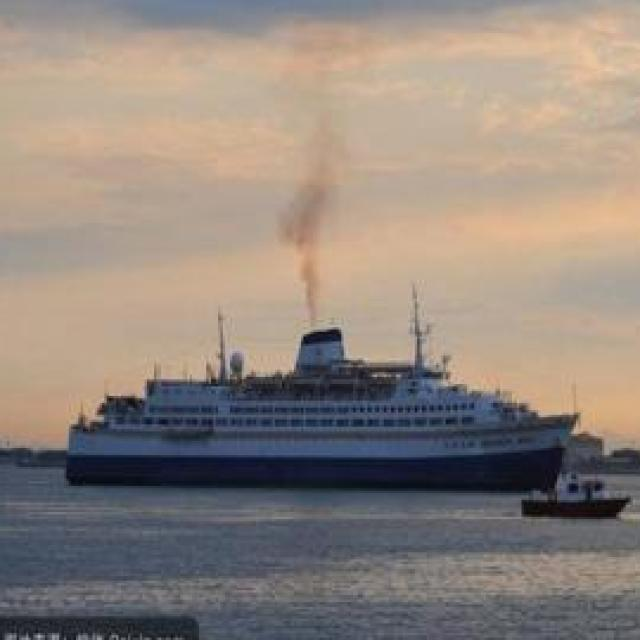houseboat: (513, 462, 631, 520)
passenger ship: (65, 314, 564, 496)
